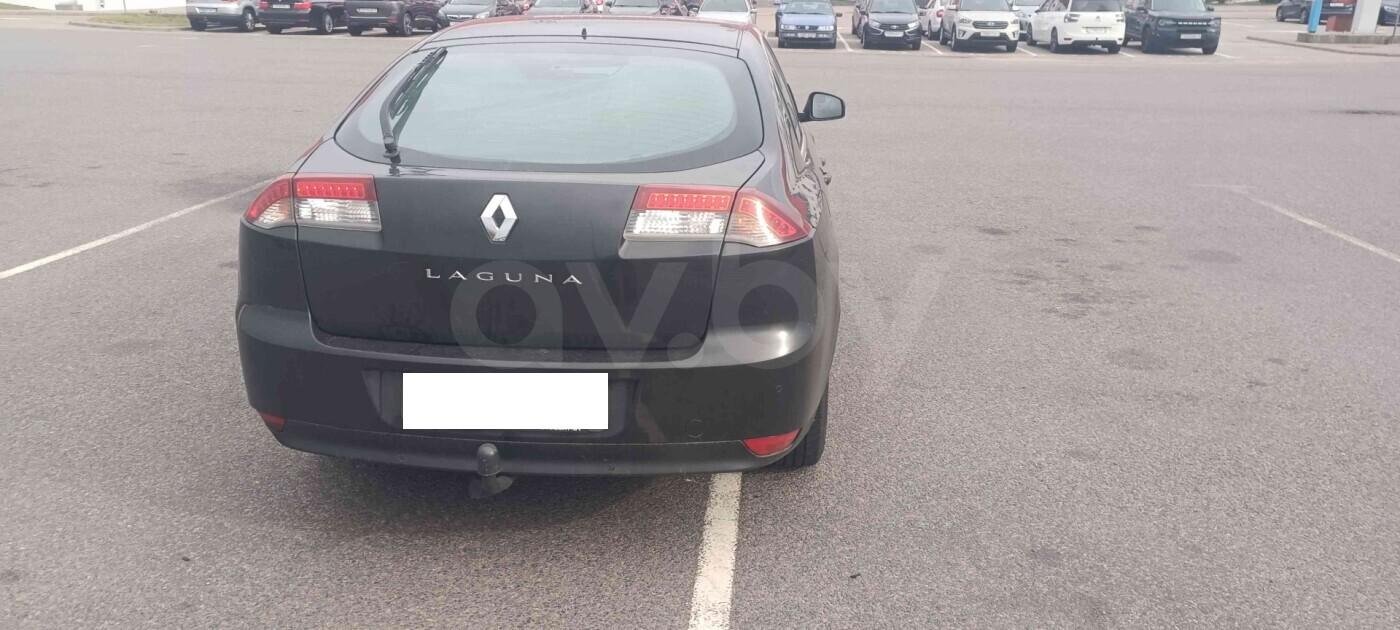Laguna_2007-2011: (234, 14, 846, 494)
